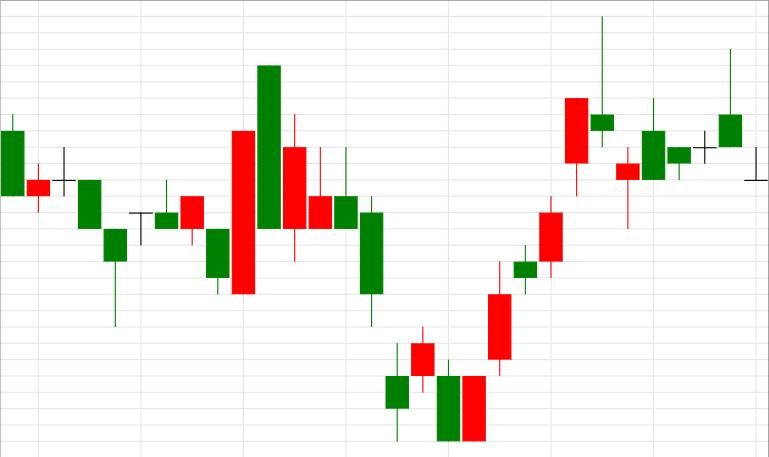hammer_rise: (2, 114, 126, 327)
shooting_star_fall: (642, 49, 743, 179)
